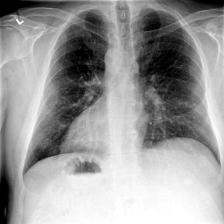normal: (18, 3, 224, 183)
